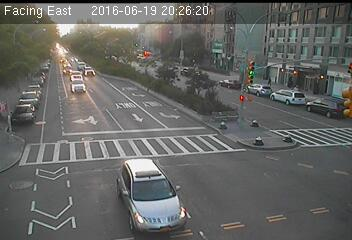neg: (39, 156, 71, 198), (203, 56, 229, 91), (84, 80, 109, 114), (152, 182, 176, 213), (24, 68, 47, 98), (162, 68, 184, 98), (122, 150, 143, 178), (197, 173, 218, 200), (281, 139, 300, 165), (293, 93, 312, 118), (69, 127, 88, 151), (241, 122, 259, 146), (266, 71, 283, 94), (121, 94, 138, 117), (278, 188, 295, 210)
